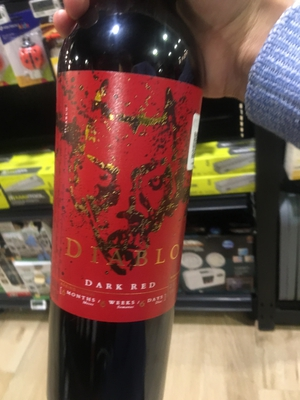diablo dark red: (37, 8, 216, 400)
